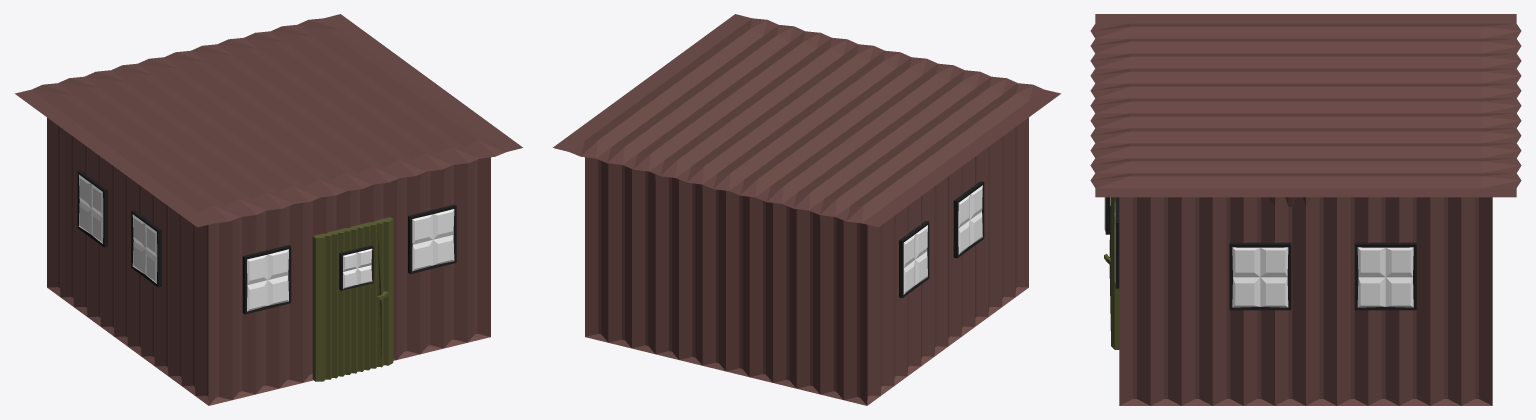
Rendered from TinShackRed.fbx.
3 views of the same model, side by side, from view 1: azimuth 30°, elevation 25°; view 2: azimuth 150°, elevation 25°; view 3: azimuth 270°, elevation 25° (orthographic). The views are drawn at different scales.
Visible parts, largest first — view 1: Box001, Box002, Box009, Box004, Box005, Box007, Box003; view 2: Box001, Box005, Box007; view 3: Box001, Box006, Box008, Box002, Box004.
Boxes of the visible parts, x1,y1,x2,y2 form: Box001: (15,14,522,405); Box002: (312,217,393,381); Box009: (242,245,291,314); Box004: (408,204,456,274); Box005: (131,210,161,287); Box007: (77,170,107,247); Box003: (339,245,373,290); Box001: (553,14,1060,405); Box005: (953,181,984,258); Box007: (899,221,929,298); Box001: (1090,14,1521,405); Box006: (1229,242,1291,310); Box008: (1354,242,1416,310); Box002: (1104,197,1119,349); Box004: (1114,197,1119,288).
Bounding box in the file's own units: 138 × 79.07 × 137.
